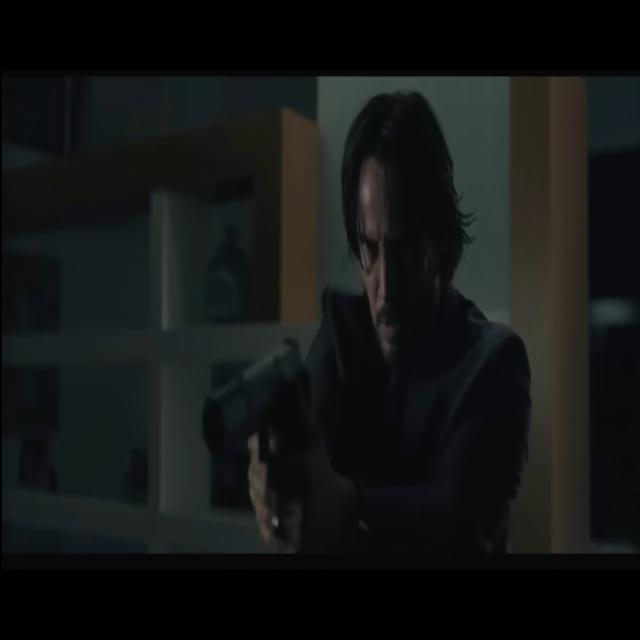weapons: (191, 318, 322, 536)
